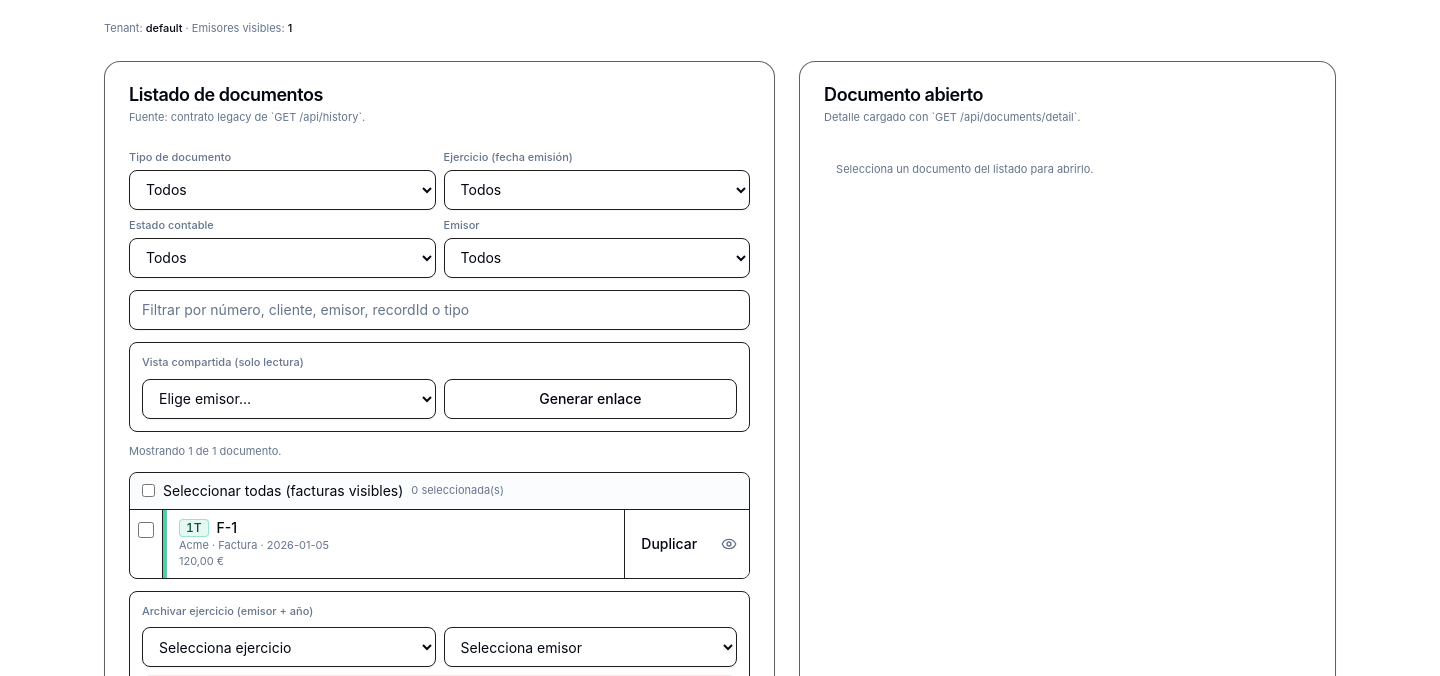
HistoryPage regression › editor: archivar documento/ejercicio deshabilitado (matriz M-HIST-ARCH)
Click the text "F-1" at [227, 528], box [217,518,237,538]
(page scrolled)
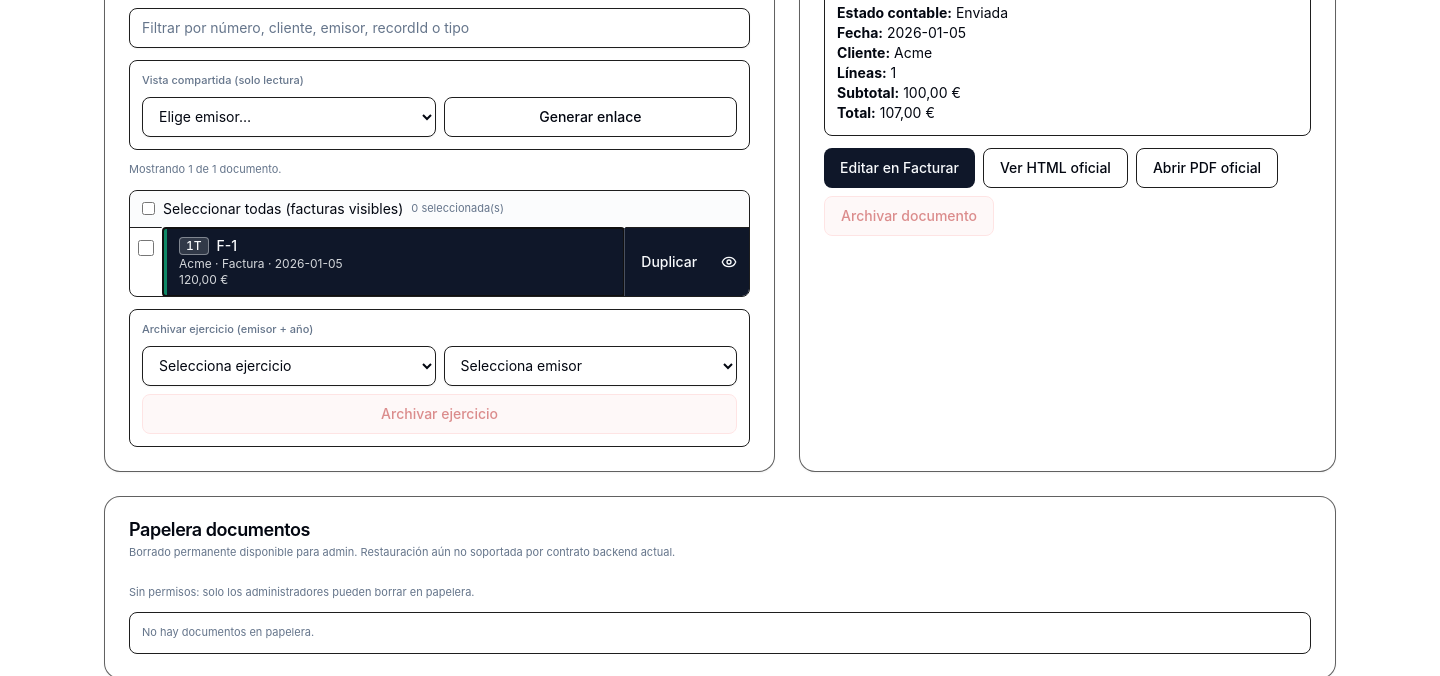
expect the button "Archivar ejercicio" is disabled: met, box [142,394,737,434]
expect the button "Archivar documento" is disabled: met, box [824,196,994,236]
